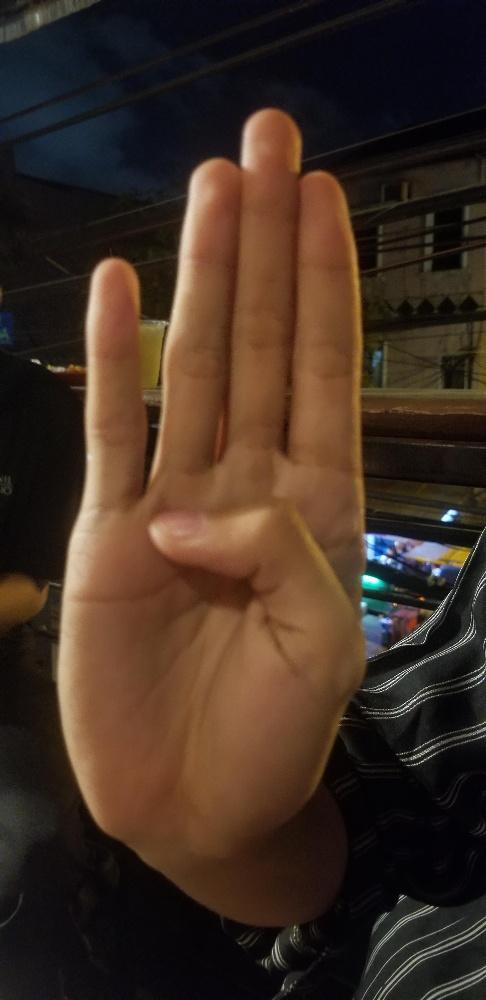b: (51, 100, 377, 846)
